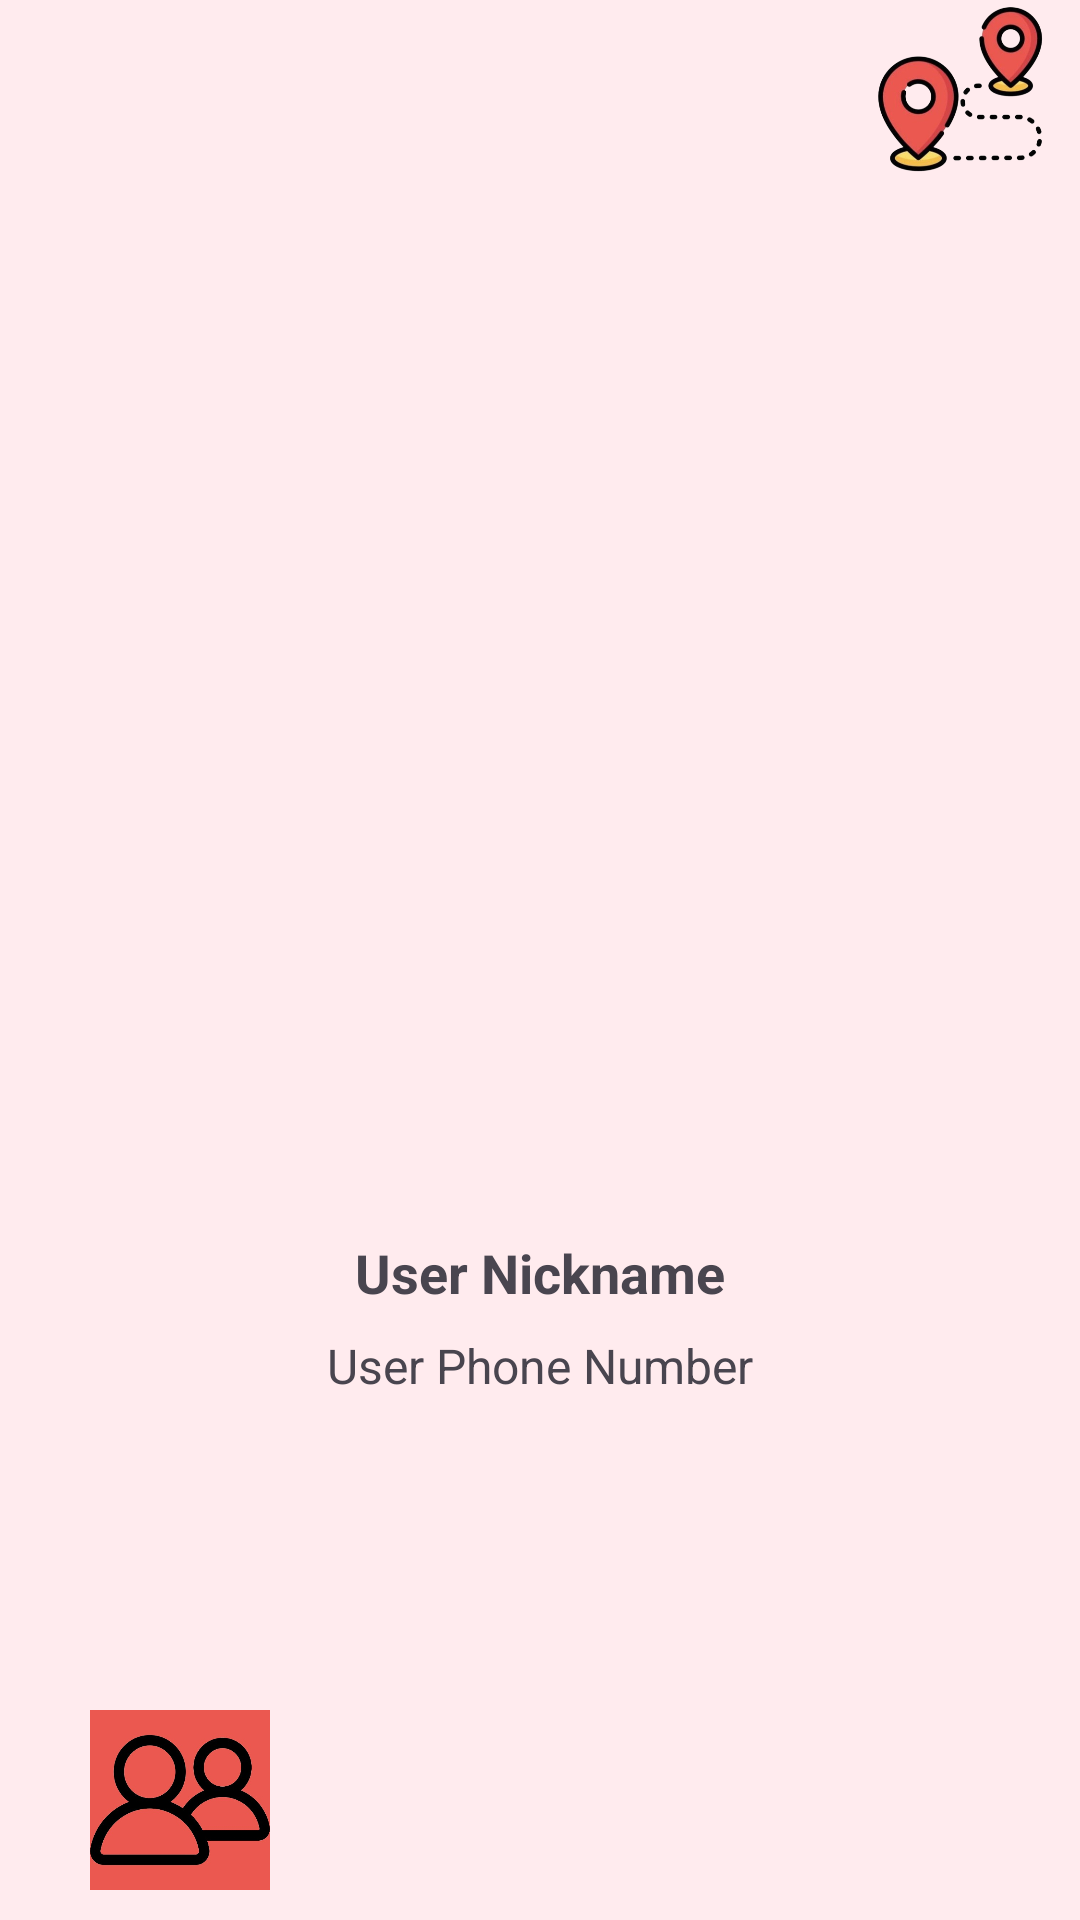

Icons on this 1080px x 1920px Android screen, each with its box as rect(x1, y1, x2, y2):
cfriends: rect(90, 1710, 270, 1890)
